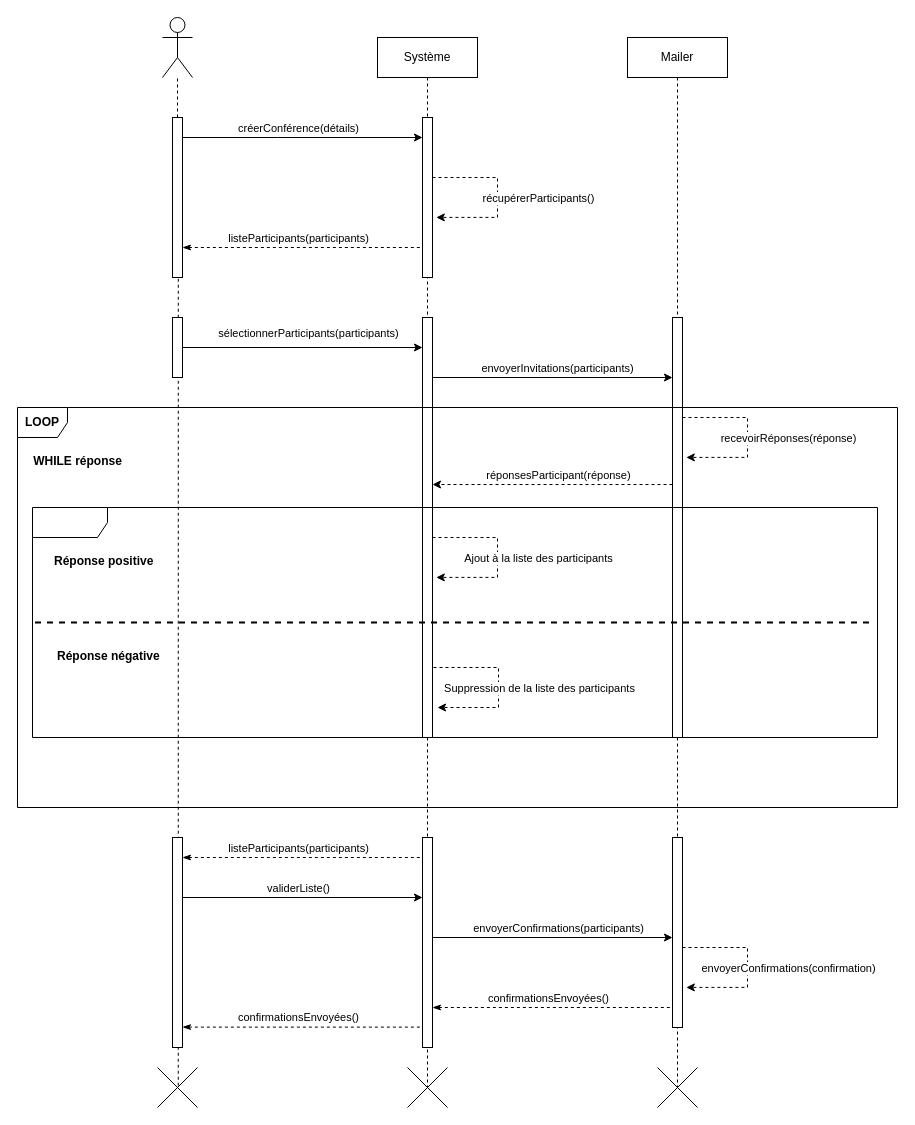
Some shapes in this 915 by 1125 pixel diagram are drawn without their labels. The centre of each missing label's shape, as x and y in pixels:
ALT: pixel 455 622
Organisateur: pixel 177 47
